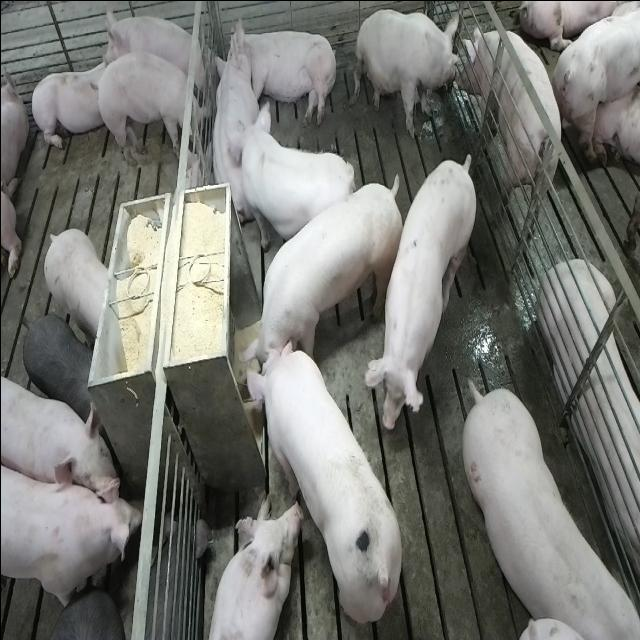Feeding: (240, 334, 404, 625), (240, 168, 408, 380)
Lateral_lying: (222, 14, 338, 128)
Sitting: (353, 8, 462, 140)
Standing: (457, 375, 635, 636), (366, 152, 478, 437), (2, 448, 140, 616), (456, 26, 560, 230), (2, 366, 119, 506), (93, 53, 207, 175), (555, 0, 640, 156), (22, 310, 95, 427), (42, 227, 110, 343), (38, 588, 122, 638)
Sternal_lying: (540, 260, 640, 600), (203, 494, 297, 640), (206, 48, 258, 230), (28, 48, 112, 152)
